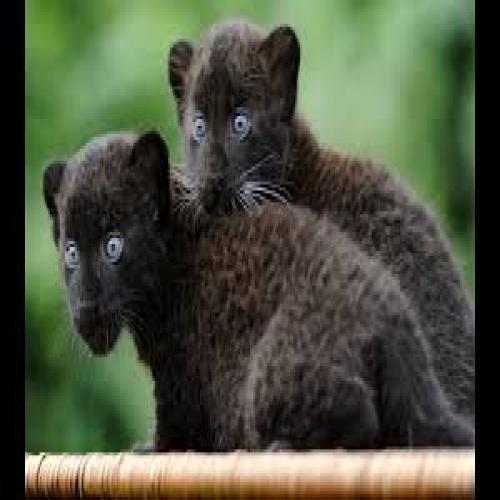panther-endangered: (43, 130, 473, 446), (165, 19, 473, 418)
